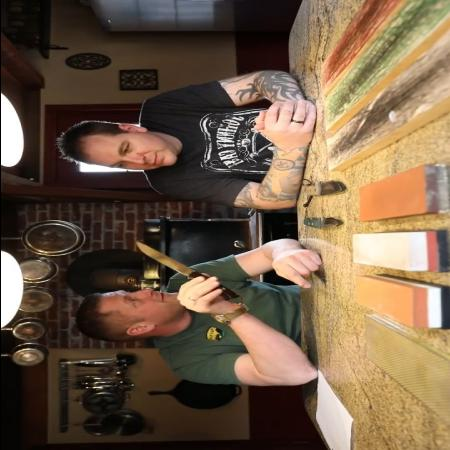long weapon: (120, 238, 218, 300)
